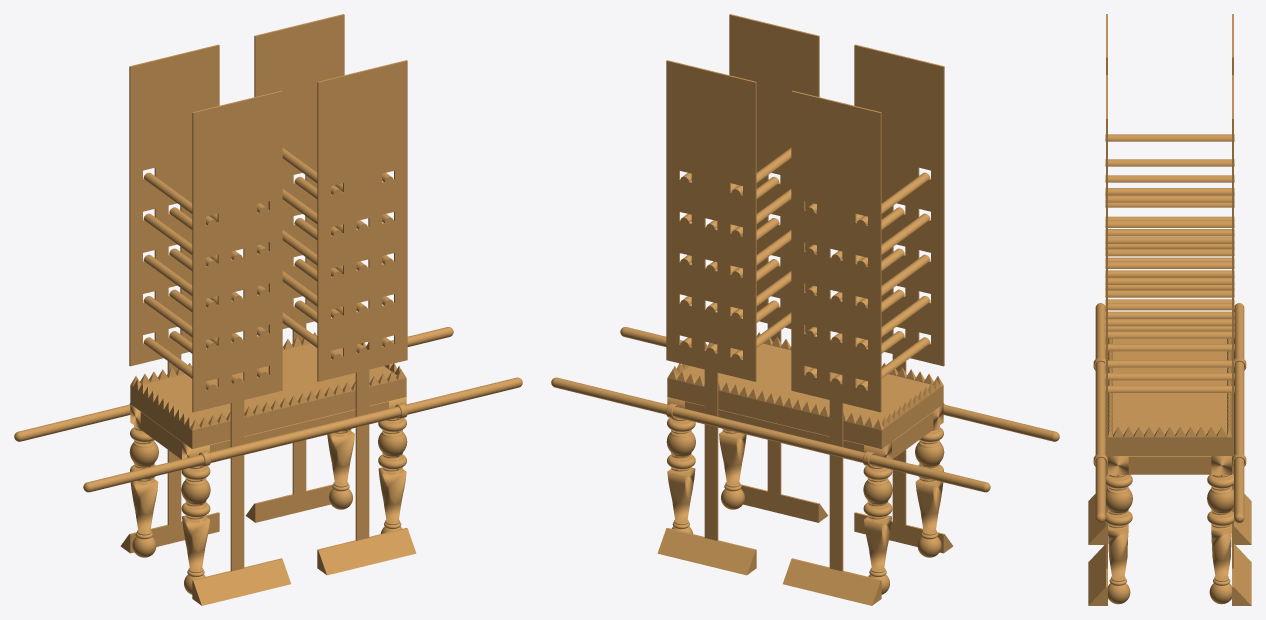
File: shulchan.fbx
3 views of the same model, side by side, from view 1: azimuth 30°, elevation 25°; view 2: azimuth 150°, elevation 25°; view 3: azimuth 270°, elevation 25° (orthographic).
Parts seen in each view (by area): view 1: rod; view 2: rod; view 3: rod.
Part boxes in pixels (box(x1,y1,x2,y2)): rod: box(14, 14, 522, 605); rod: box(551, 14, 1059, 605); rod: box(1088, 14, 1251, 605).
Bounding box in the file's own units: 24.5 × 26 × 7.9.
